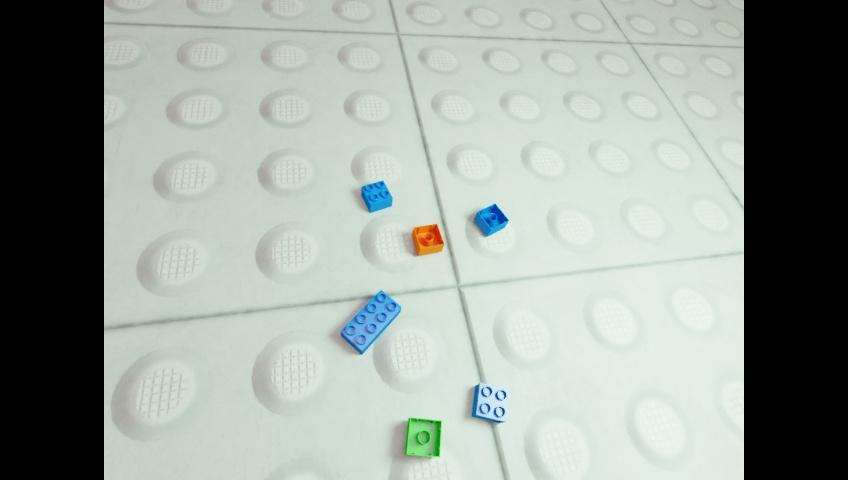2x2_blue: (471, 382, 508, 422), (473, 202, 508, 236), (361, 179, 392, 212)
2x2_green: (406, 418, 443, 459)
2x2_orange: (411, 222, 443, 255)
4x2_blue: (340, 289, 401, 354)
